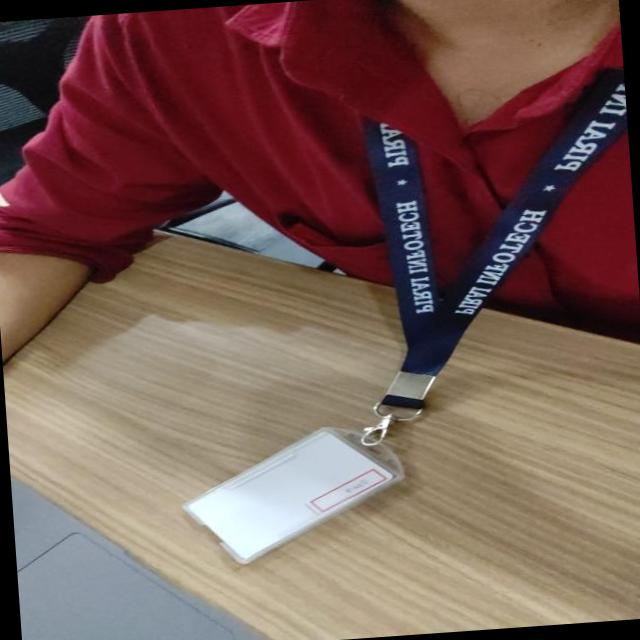id_card: (153, 61, 640, 569)
